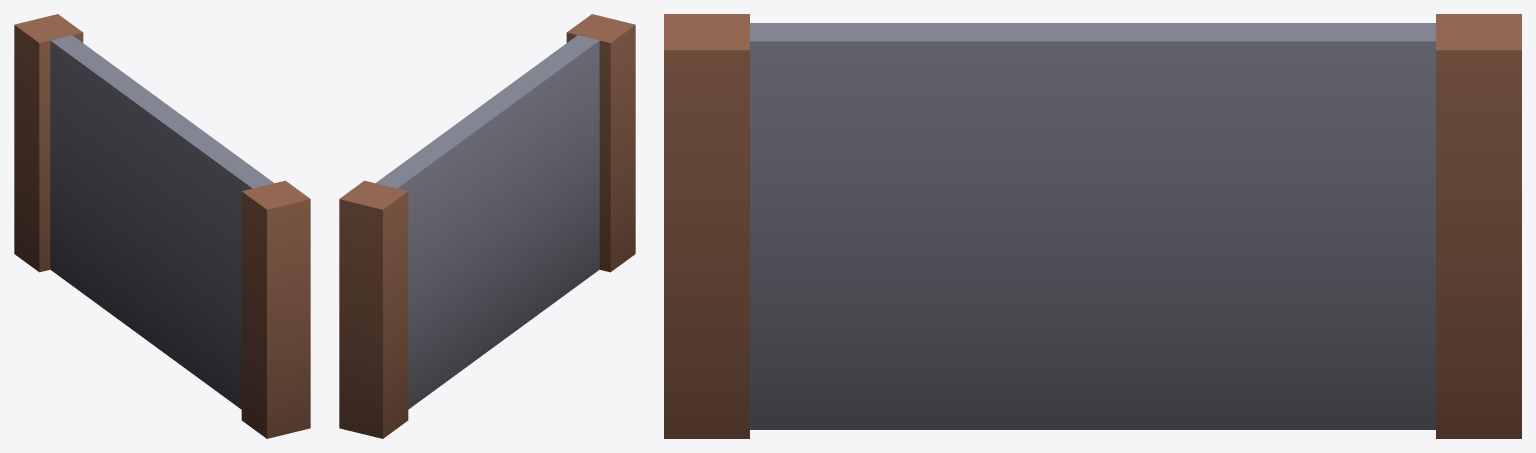
File: wall-half.glb
3 renders of one model, left to right at view 1: azimuth 30°, elevation 25°; view 2: azimuth 150°, elevation 25°; view 3: azimuth 270°, elevation 25°, orthographic. The views are drawn at different scales.
Visible parts, largest first — view 1: wall-half; view 2: wall-half; view 3: wall-half.
Boxes of the visible parts, x1,y1,x2,y2 form: wall-half: [14, 14, 310, 438]; wall-half: [339, 14, 635, 438]; wall-half: [664, 14, 1521, 438].
Bounding box in the file's own units: 0.2999 × 1.5 × 3.
